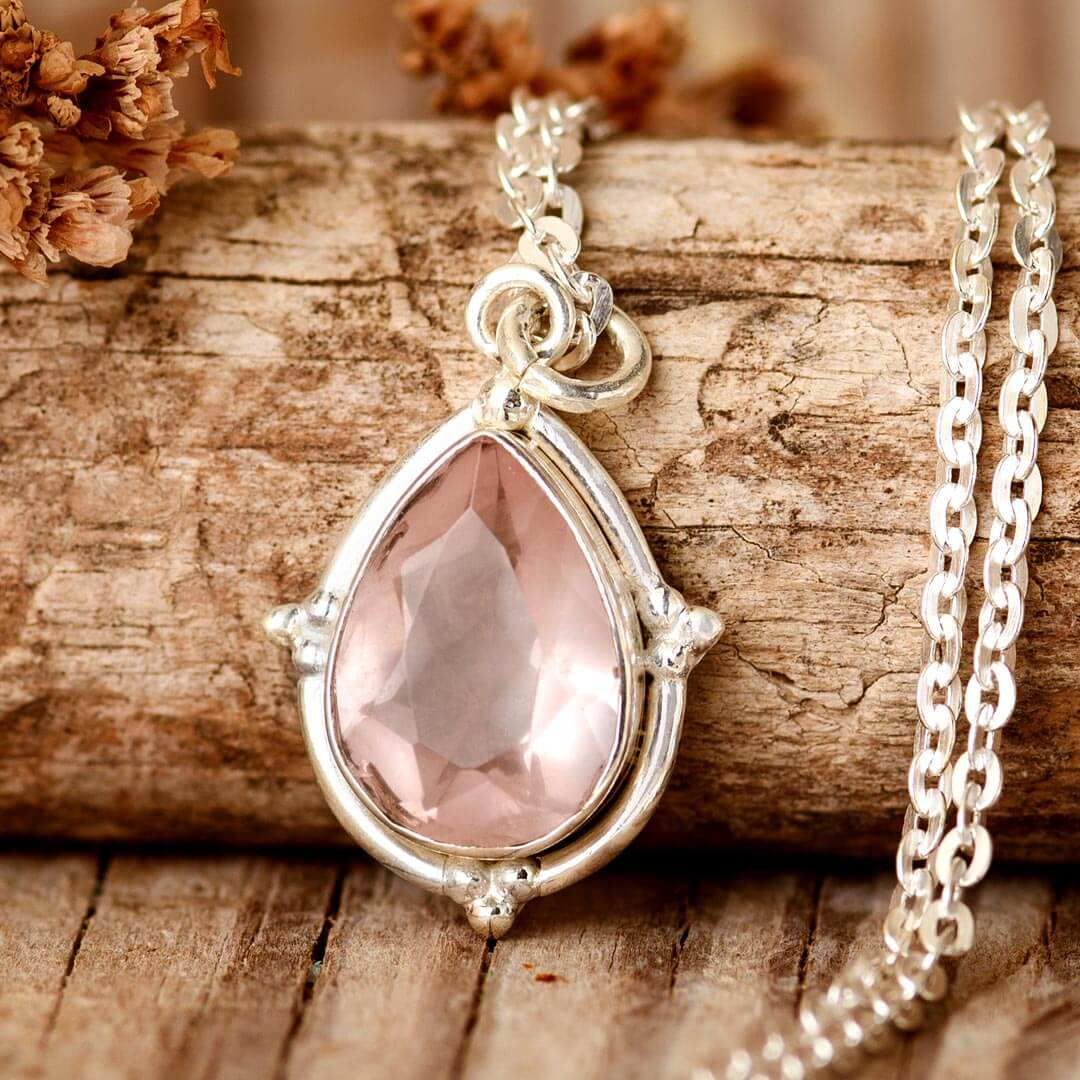Rose_Quartz: (329, 463, 631, 837)
